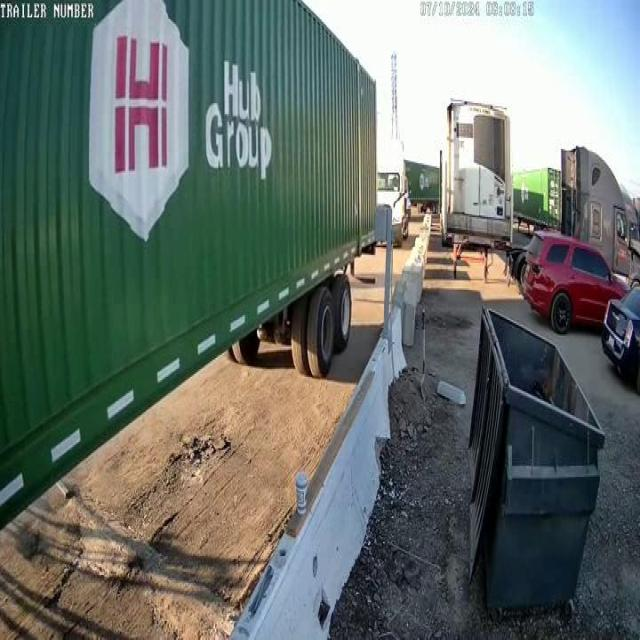TRUCK_OUT: (1, 1, 380, 528)
